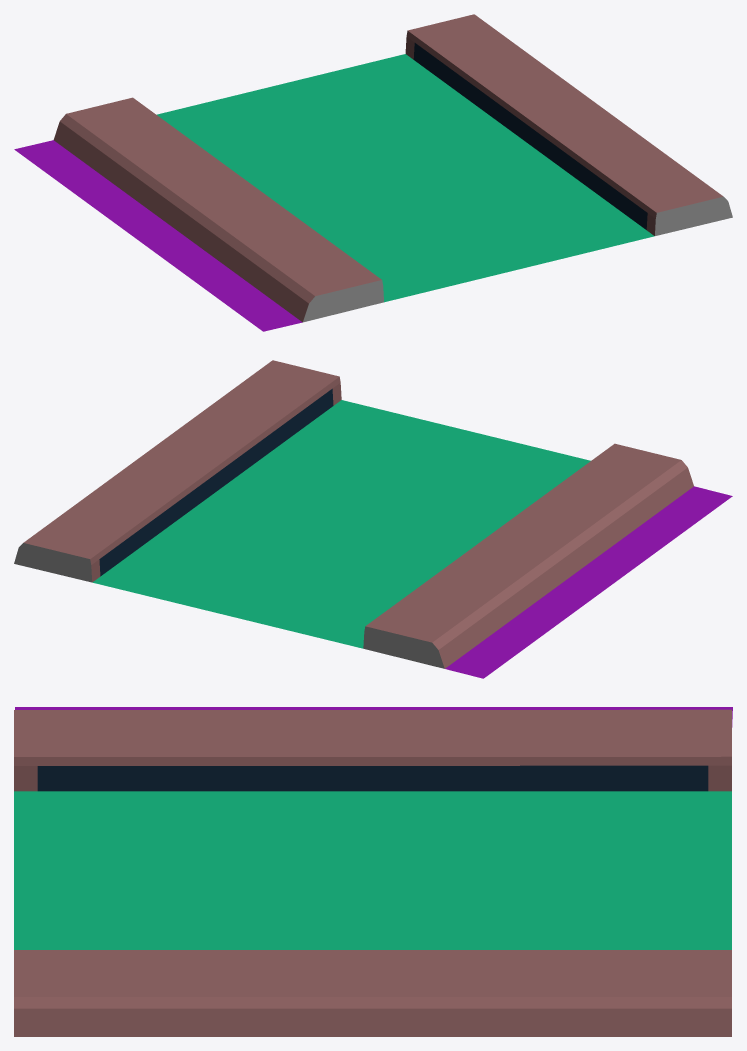
File: Module_Ss_floor_surf_3.FBX
The picture shows the model from 3 angles, top to bottom: view 1: azimuth 30°, elevation 25°; view 2: azimuth 150°, elevation 25°; view 3: azimuth 270°, elevation 25°; orthographic projection. The views are drawn at different scales.
Visible parts, largest first — view 1: Module_Ss_floor_surf_3; view 2: Module_Ss_floor_surf_3; view 3: Module_Ss_floor_surf_3.
Boxes of the visible parts, bbox=[...] form: Module_Ss_floor_surf_3: bbox=[14, 14, 732, 331]; Module_Ss_floor_surf_3: bbox=[14, 360, 732, 678]; Module_Ss_floor_surf_3: bbox=[14, 707, 732, 1036].
Bounding box in the file's own units: 42.96 × 2.03 × 39.56.
